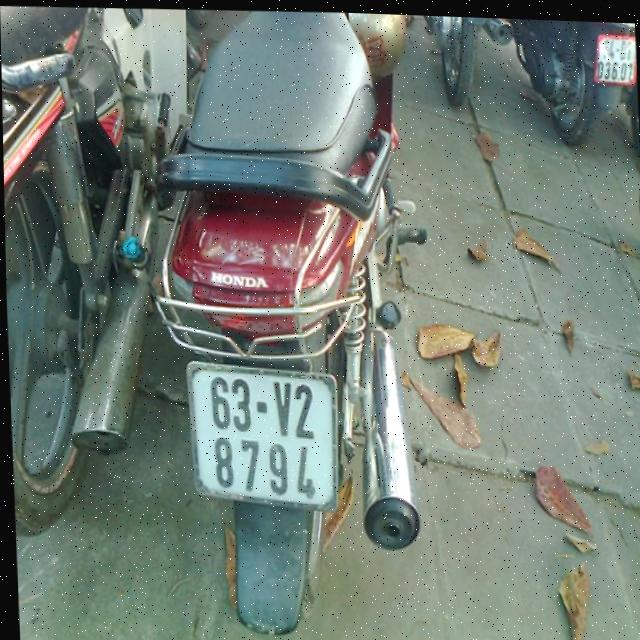motorcycle: (153, 6, 444, 639), (0, 2, 194, 560), (514, 19, 639, 156)
plate: (181, 353, 346, 516), (589, 28, 636, 88)
